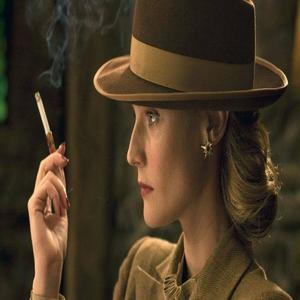cigarette: (35, 93, 57, 166)
